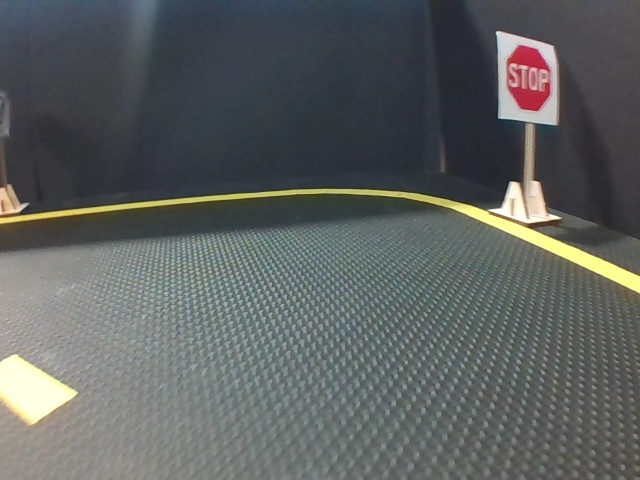stop: (499, 29, 559, 125)
